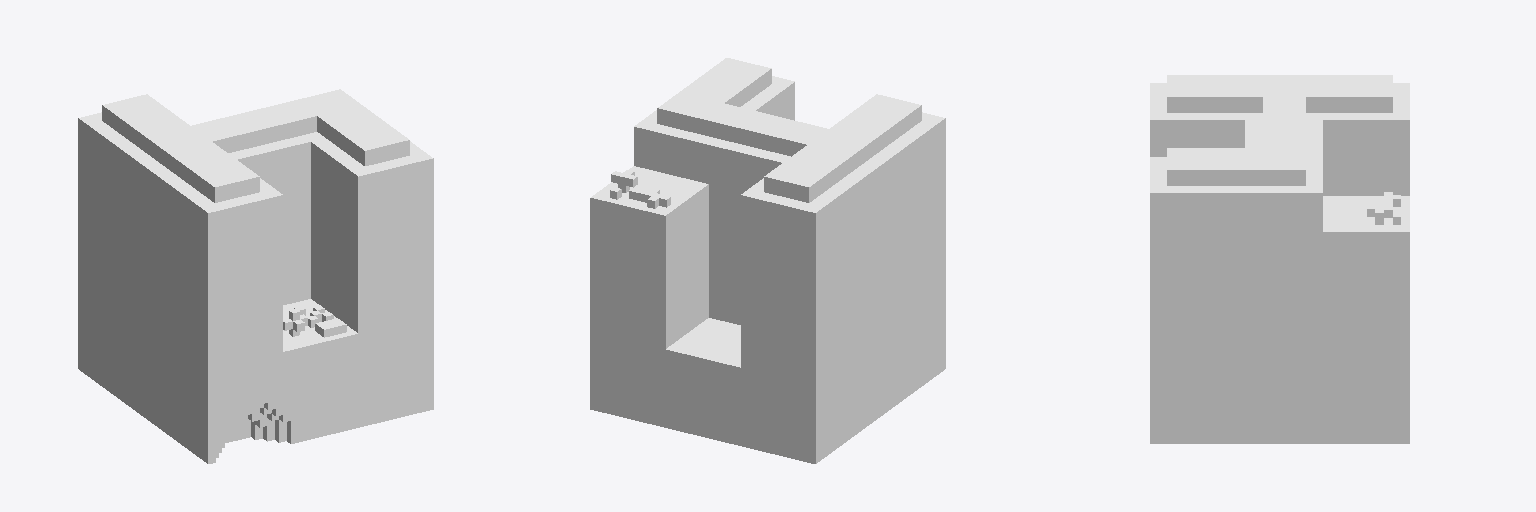
The model's file is KAMJ.obj.
3 renders of one model, left to right at view 1: azimuth 30°, elevation 25°; view 2: azimuth 150°, elevation 25°; view 3: azimuth 270°, elevation 25°, orthographic.
Bounding box in the file's own units: 30 × 34 × 30.